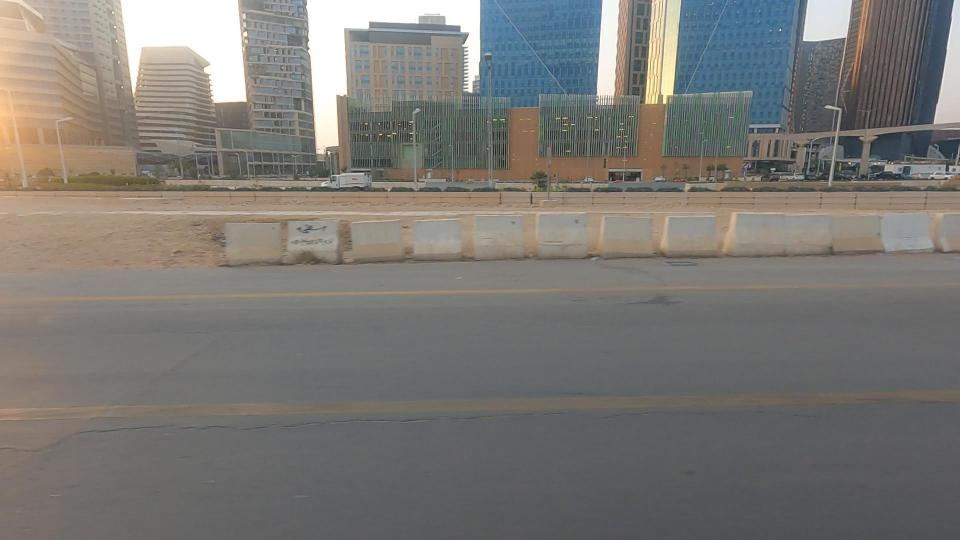CONSTRUCTION_ROAD: (469, 155, 960, 303), (83, 176, 445, 307), (307, 179, 636, 275)
